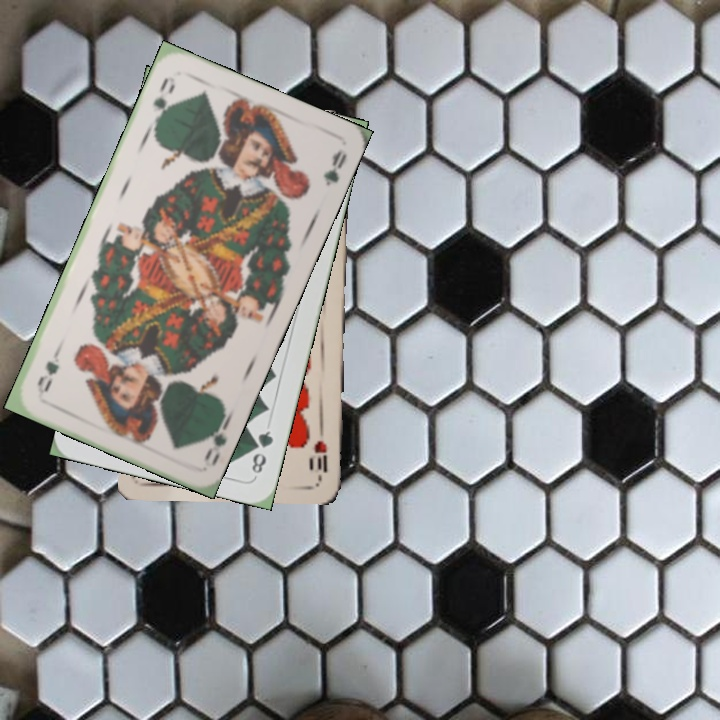G8: (247, 426, 276, 479)
GO: (199, 409, 234, 469), (149, 73, 172, 129)
H10: (310, 421, 330, 476)
